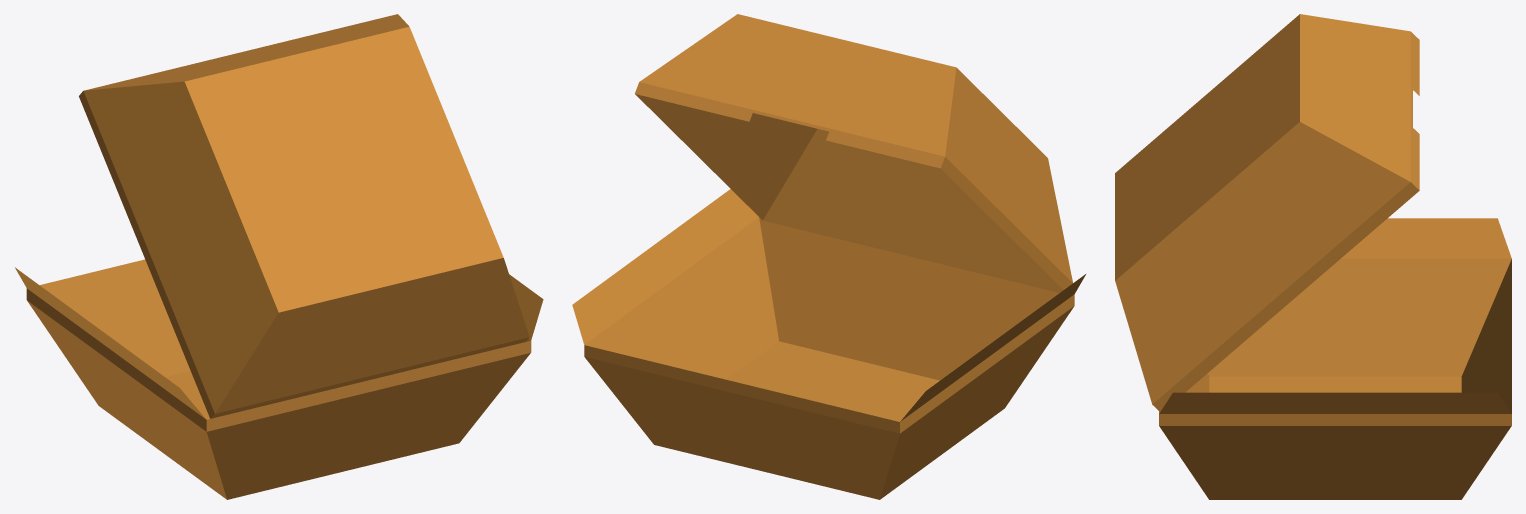
Rendered from Burger stack box.fbx.
3 views of the same model, side by side, from view 1: azimuth 30°, elevation 25°; view 2: azimuth 150°, elevation 25°; view 3: azimuth 270°, elevation 25° (orthographic). The views are drawn at different scales.
Visible parts, largest first — view 1: Cube.001, Cube; view 2: Cube, Cube.001; view 3: Cube.001, Cube.
Boxes of the visible parts, left/top/right/bottom form: Cube.001: left=79, top=14, right=529, bottom=418; Cube: left=15, top=259, right=543, bottom=499; Cube: left=572, top=189, right=1085, bottom=499; Cube.001: left=635, top=14, right=1072, bottom=292; Cube.001: left=1115, top=14, right=1419, bottom=411; Cube: left=1159, top=218, right=1511, bottom=499.
Bounding box in the file's own units: 241 × 243 × 232.
